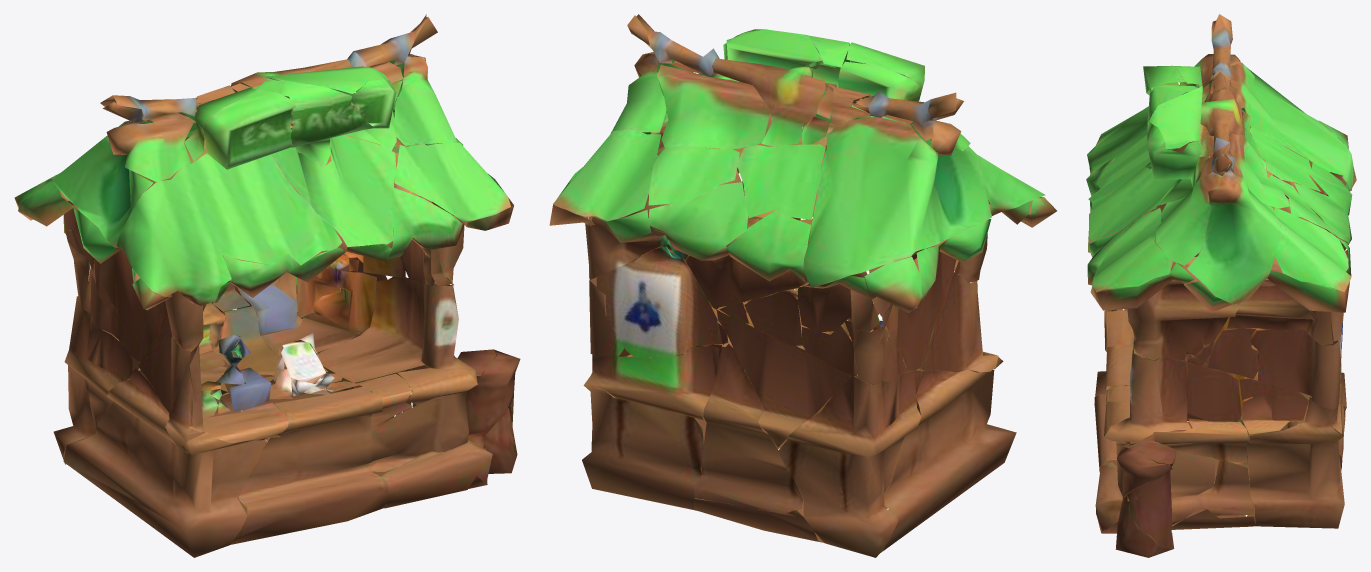
Rendered from exchange_booth.glb.
3 renders of one model, left to right at view 1: azimuth 30°, elevation 25°; view 2: azimuth 150°, elevation 25°; view 3: azimuth 270°, elevation 25°, orthographic. The views are drawn at different scales.
Parts seen in each view (by area): view 1: Mesh_0; view 2: Mesh_0; view 3: Mesh_0.
Part boxes in pixels (bbox=[...]): Mesh_0: bbox=[14, 14, 520, 557]; Mesh_0: bbox=[549, 14, 1056, 557]; Mesh_0: bbox=[1086, 14, 1356, 557].
Bounding box in the file's own units: 1.88 × 1.91 × 1.21.
Materials: 1 (1 with a texture image).
